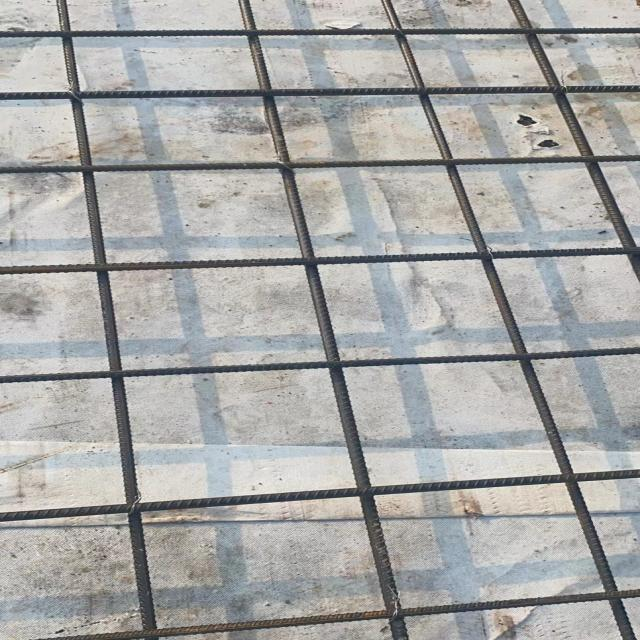ribbed bar: (377, 0, 637, 639), (234, 0, 409, 639), (55, 0, 159, 639), (507, 0, 638, 280), (0, 468, 639, 523), (29, 590, 639, 640), (0, 346, 639, 381), (0, 246, 639, 275), (0, 154, 639, 174), (0, 84, 639, 100), (0, 27, 639, 38)
